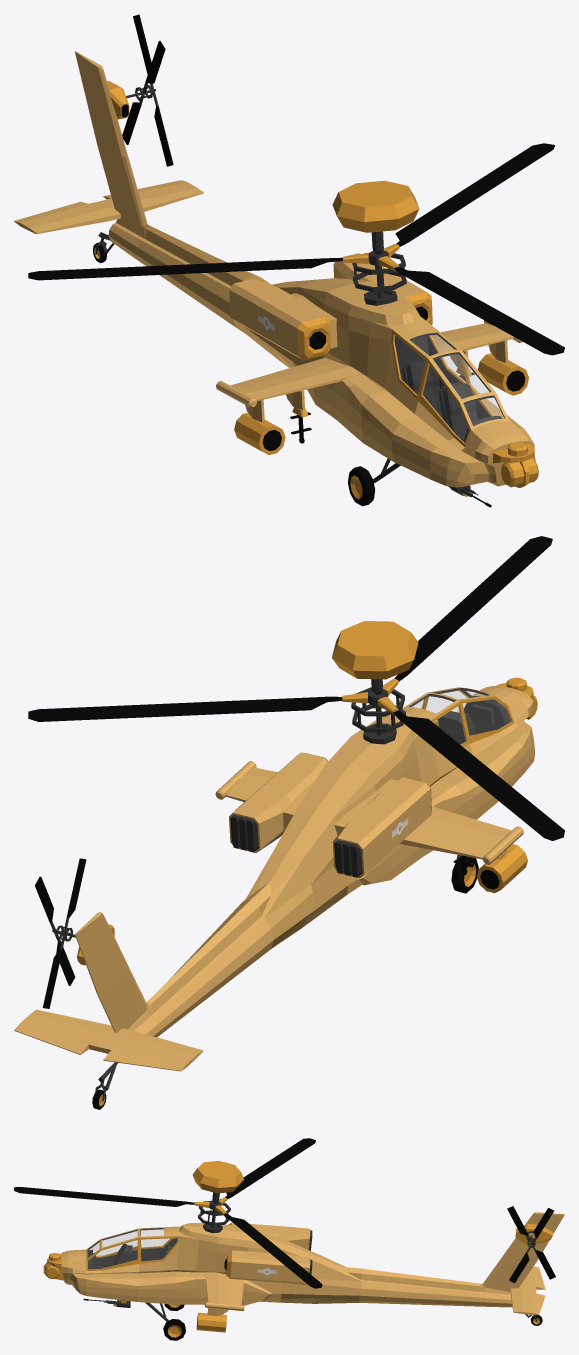
The picture shows the model from 3 angles, top to bottom: view 1: azimuth 30°, elevation 25°; view 2: azimuth 150°, elevation 25°; view 3: azimuth 270°, elevation 25°; orthographic projection. The views are drawn at different scales.
Parts seen in each view (by area): view 1: Circle, Circle.008, Circle.005, Circle.001, Circle.009, Circle.002, Cylinder.001, Circle.004, Circle.003; view 2: Circle, Circle.008, Circle.009, Circle.001, Circle.002, Circle.005, Cylinder.001; view 3: Circle, Circle.008, Circle.003, Circle.009, Circle.004, Cylinder, Circle.005, Circle.001, Circle.002.
Part boxes in pixels (x1=…): Circle: x1=14, y1=51, x2=538, y2=487; Circle.008: x1=28, y1=143, x2=564, y2=355; Circle.005: x1=410, y1=333, x2=504, y2=425; Circle.001: x1=418, y1=358, x2=471, y2=446; Circle.009: x1=122, y1=14, x2=173, y2=166; Circle.002: x1=391, y1=330, x2=427, y2=400; Cylinder.001: x1=348, y1=458, x2=400, y2=506; Circle.004: x1=429, y1=335, x2=467, y2=384; Circle.003: x1=461, y1=357, x2=503, y2=417; Circle: x1=14, y1=677, x2=537, y2=1071; Circle.008: x1=28, y1=536, x2=564, y2=840; Circle.009: x1=35, y1=858, x2=86, y2=1008; Circle.001: x1=460, y1=696, x2=514, y2=743; Circle.002: x1=430, y1=701, x2=469, y2=746; Circle.005: x1=409, y1=688, x2=487, y2=712; Cylinder.001: x1=451, y1=855, x2=478, y2=893; Circle: x1=43, y1=1212, x2=564, y2=1332; Circle.008: x1=14, y1=1138, x2=322, y2=1288; Circle.003: x1=86, y1=1238, x2=139, y2=1270; Circle.009: x1=507, y1=1206, x2=555, y2=1283; Circle.004: x1=139, y1=1236, x2=179, y2=1263; Cylinder: x1=145, y1=1302, x2=185, y2=1340; Circle.005: x1=88, y1=1228, x2=163, y2=1256; Circle.001: x1=88, y1=1232, x2=137, y2=1257; Circle.002: x1=140, y1=1229, x2=172, y2=1249.
Size of the model in its own units: 1004 by 492 by 1563.
